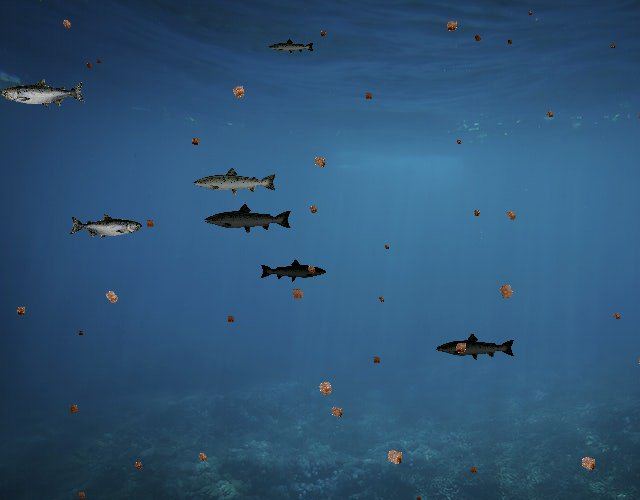Fish: (204, 203, 294, 235), (192, 166, 278, 197), (0, 78, 86, 109), (435, 333, 516, 362), (70, 213, 143, 240), (259, 258, 327, 282), (268, 39, 315, 56)
Pellet: (308, 151, 331, 174), (501, 205, 521, 225), (57, 14, 76, 33), (187, 133, 204, 150), (369, 353, 384, 367), (83, 59, 96, 72), (454, 136, 464, 146)
